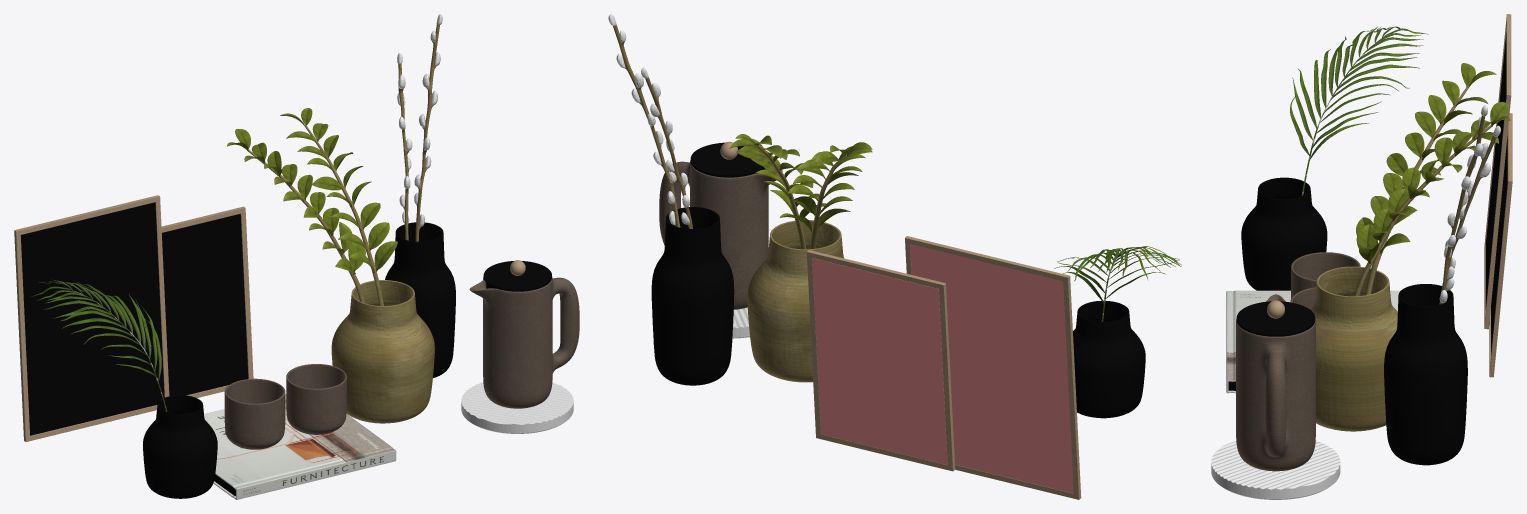
The model's file is decor_2.glb.
3 views of the same model, side by side, from view 1: azimuth 30°, elevation 25°; view 2: azimuth 150°, elevation 25°; view 3: azimuth 270°, elevation 25° (orthographic). The views are drawn at different scales.
Parts seen in each view (by area): view 1: mesh_11_ROOT__Group1871011898__MUTTO_1_16_Layer0, mesh_21_ROOT__Group1871011897__MUTTO_1_12_Layer0, mesh_7_ROOT__Group1871011899__MUTTO_1_21_Layer0, mesh_28_ROOT__Group1871011900__Line001__MUTTO_1_26_Layer0, mesh_24_ROOT__Group001__MUTTO_1_1_Layer0, mesh_14_ROOT__Group1871011896__MUTTO_1_7_Layer0, mesh_38_ROOT__Group1871011901__MUTTO_1_36_Layer0, mesh_12_ROOT__Group1871011898__MUTTO_1_17_Layer0, mesh_9_ROOT__Group1871011899__Plane101__MUTTO_1_23_Layer0, mesh_26_ROOT__MUTTO_1_0_Layer0, mesh_15_ROOT__Group1871011896__Plane002__MUTTO_1_8_Layer0, mesh_5_ROOT__Group1871011899__Plane080__MUTTO_1_19_Layer0 (+9 smaller); view 2: mesh_13_ROOT__Group1871011898__MUTTO_1_18_Layer0, mesh_23_ROOT__Group1871011897__MUTTO_1_14_Layer0, mesh_38_ROOT__Group1871011901__MUTTO_1_36_Layer0, mesh_7_ROOT__Group1871011899__MUTTO_1_21_Layer0, mesh_14_ROOT__Group1871011896__MUTTO_1_7_Layer0, mesh_28_ROOT__Group1871011900__Line001__MUTTO_1_26_Layer0, mesh_22_ROOT__Group1871011897__MUTTO_1_13_Layer0, mesh_12_ROOT__Group1871011898__MUTTO_1_17_Layer0, mesh_5_ROOT__Group1871011899__Plane080__MUTTO_1_19_Layer0, mesh_9_ROOT__Group1871011899__Plane101__MUTTO_1_23_Layer0, mesh_15_ROOT__Group1871011896__Plane002__MUTTO_1_8_Layer0, mesh_30_ROOT__Group1871011900__MUTTO_1_28_Layer0 (+4 smaller); view 3: mesh_38_ROOT__Group1871011901__MUTTO_1_36_Layer0, mesh_7_ROOT__Group1871011899__MUTTO_1_21_Layer0, mesh_28_ROOT__Group1871011900__Line001__MUTTO_1_26_Layer0, mesh_14_ROOT__Group1871011896__MUTTO_1_7_Layer0, mesh_15_ROOT__Group1871011896__Plane002__MUTTO_1_8_Layer0, mesh_26_ROOT__MUTTO_1_0_Layer0, mesh_5_ROOT__Group1871011899__Plane080__MUTTO_1_19_Layer0, mesh_9_ROOT__Group1871011899__Plane101__MUTTO_1_23_Layer0, mesh_12_ROOT__Group1871011898__MUTTO_1_17_Layer0, mesh_30_ROOT__Group1871011900__MUTTO_1_28_Layer0, mesh_24_ROOT__Group001__MUTTO_1_1_Layer0, mesh_22_ROOT__Group1871011897__MUTTO_1_13_Layer0 (+10 smaller).
Part boxes in pixels (x1,y1,x2,y2): mesh_11_ROOT__Group1871011898__MUTTO_1_16_Layer0: [20, 202, 164, 435]; mesh_21_ROOT__Group1871011897__MUTTO_1_12_Layer0: [162, 214, 248, 396]; mesh_7_ROOT__Group1871011899__MUTTO_1_21_Layer0: [331, 280, 434, 423]; mesh_28_ROOT__Group1871011900__Line001__MUTTO_1_26_Layer0: [469, 276, 579, 408]; mesh_24_ROOT__Group001__MUTTO_1_1_Layer0: [204, 394, 396, 499]; mesh_14_ROOT__Group1871011896__MUTTO_1_7_Layer0: [143, 395, 217, 498]; mesh_38_ROOT__Group1871011901__MUTTO_1_36_Layer0: [385, 222, 455, 377]; mesh_12_ROOT__Group1871011898__MUTTO_1_17_Layer0: [14, 195, 169, 441]; mesh_9_ROOT__Group1871011899__Plane101__MUTTO_1_23_Layer0: [280, 108, 397, 272]; mesh_26_ROOT__MUTTO_1_0_Layer0: [461, 382, 573, 433]; mesh_15_ROOT__Group1871011896__Plane002__MUTTO_1_8_Layer0: [30, 279, 161, 380]; mesh_5_ROOT__Group1871011899__Plane080__MUTTO_1_19_Layer0: [227, 129, 365, 274]; mesh_13_ROOT__Group1871011898__MUTTO_1_18_Layer0: [910, 244, 1073, 493]; mesh_23_ROOT__Group1871011897__MUTTO_1_14_Layer0: [812, 258, 947, 464]; mesh_38_ROOT__Group1871011901__MUTTO_1_36_Layer0: [651, 207, 734, 385]; mesh_7_ROOT__Group1871011899__MUTTO_1_21_Layer0: [747, 220, 844, 382]; mesh_14_ROOT__Group1871011896__MUTTO_1_7_Layer0: [1073, 300, 1145, 418]; mesh_28_ROOT__Group1871011900__Line001__MUTTO_1_26_Layer0: [659, 160, 783, 309]; mesh_22_ROOT__Group1871011897__MUTTO_1_13_Layer0: [806, 250, 955, 471]; mesh_12_ROOT__Group1871011898__MUTTO_1_17_Layer0: [905, 236, 1081, 499]; mesh_5_ROOT__Group1871011899__Plane080__MUTTO_1_19_Layer0: [780, 142, 872, 231]; mesh_9_ROOT__Group1871011899__Plane101__MUTTO_1_23_Layer0: [729, 134, 828, 222]; mesh_15_ROOT__Group1871011896__Plane002__MUTTO_1_8_Layer0: [1054, 246, 1181, 302]; mesh_30_ROOT__Group1871011900__MUTTO_1_28_Layer0: [690, 142, 764, 177]; mesh_38_ROOT__Group1871011901__MUTTO_1_36_Layer0: [1384, 284, 1467, 465]; mesh_7_ROOT__Group1871011899__MUTTO_1_21_Layer0: [1310, 266, 1397, 431]; mesh_28_ROOT__Group1871011900__Line001__MUTTO_1_26_Layer0: [1236, 294, 1315, 471]; mesh_14_ROOT__Group1871011896__MUTTO_1_7_Layer0: [1241, 177, 1327, 290]; mesh_15_ROOT__Group1871011896__Plane002__MUTTO_1_8_Layer0: [1290, 26, 1428, 161]; mesh_26_ROOT__MUTTO_1_0_Layer0: [1211, 440, 1340, 499]; mesh_5_ROOT__Group1871011899__Plane080__MUTTO_1_19_Layer0: [1356, 63, 1496, 253]; mesh_9_ROOT__Group1871011899__Plane101__MUTTO_1_23_Layer0: [1356, 102, 1510, 263]; mesh_12_ROOT__Group1871011898__MUTTO_1_17_Layer0: [1484, 14, 1511, 329]; mesh_30_ROOT__Group1871011900__MUTTO_1_28_Layer0: [1236, 301, 1315, 336]; mesh_24_ROOT__Group001__MUTTO_1_1_Layer0: [1226, 290, 1400, 393]; mesh_22_ROOT__Group1871011897__MUTTO_1_13_Layer0: [1489, 113, 1512, 377].
Size of the model in its own units: 2079 by 1316 by 956.
Materials: 18 (10 with a texture image).
